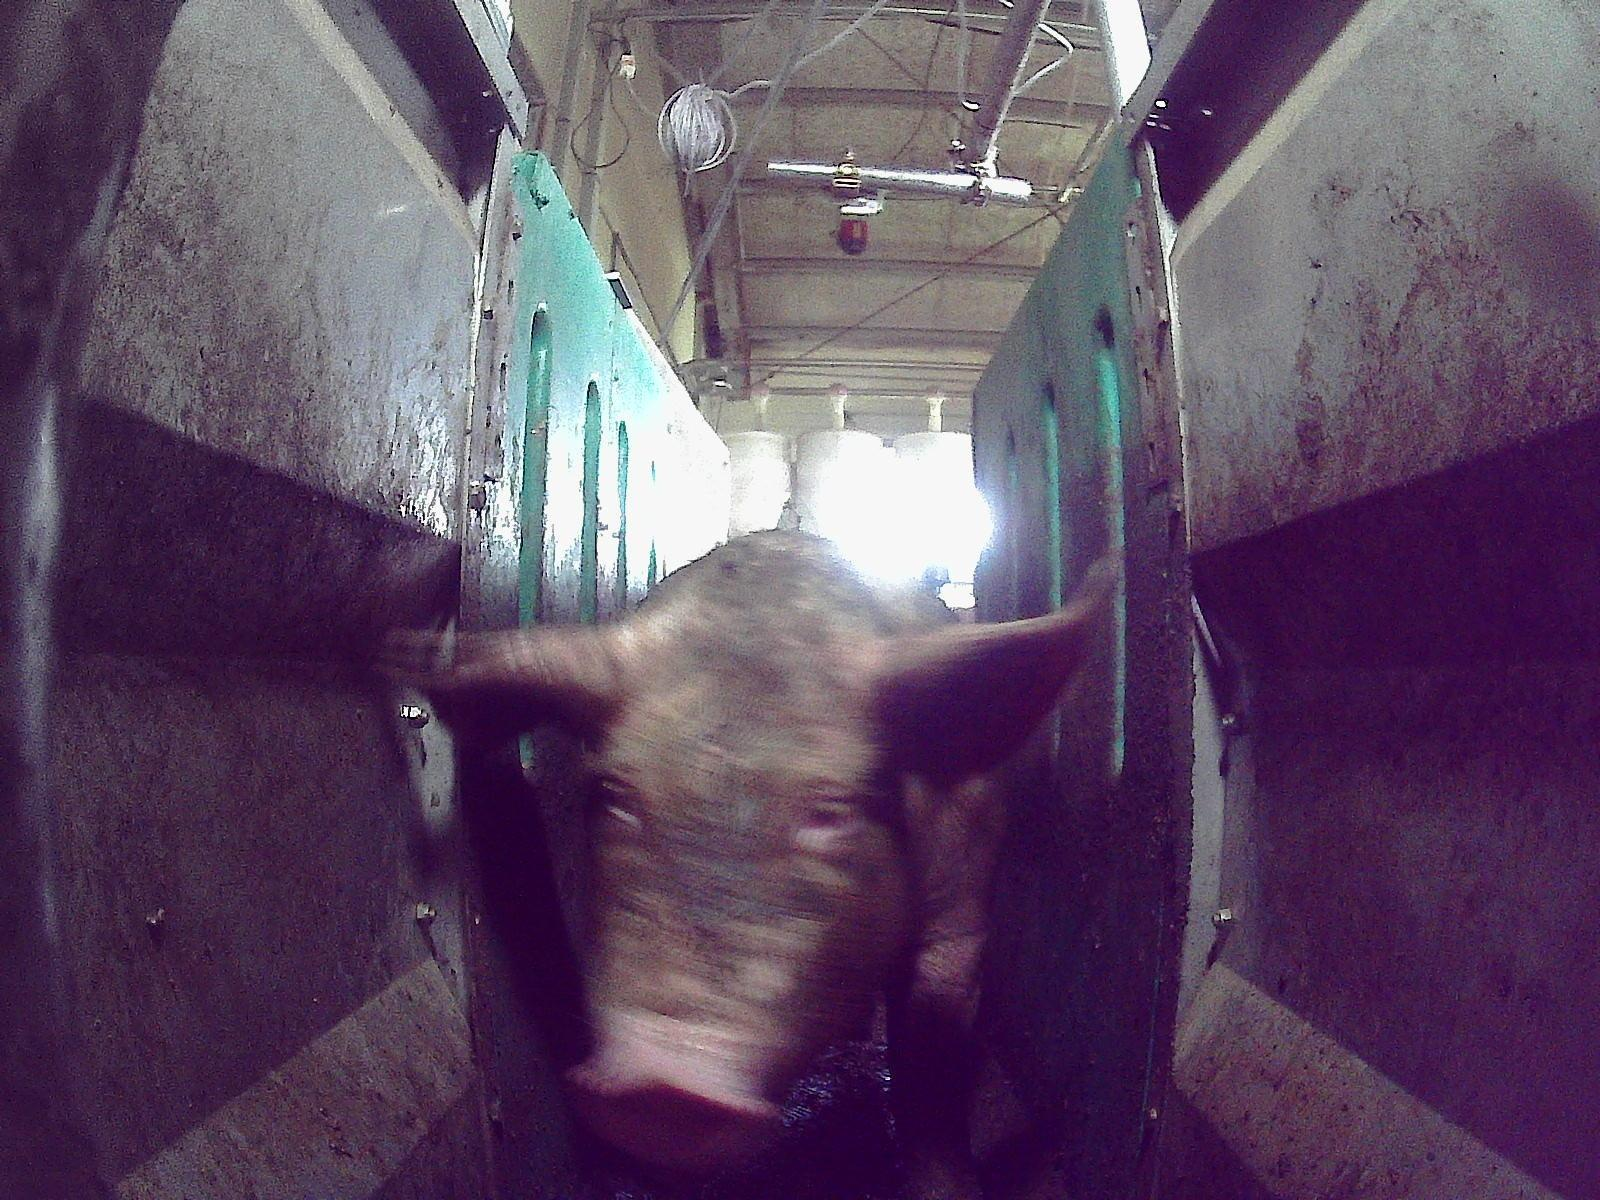Face: (562, 604, 915, 1171)
